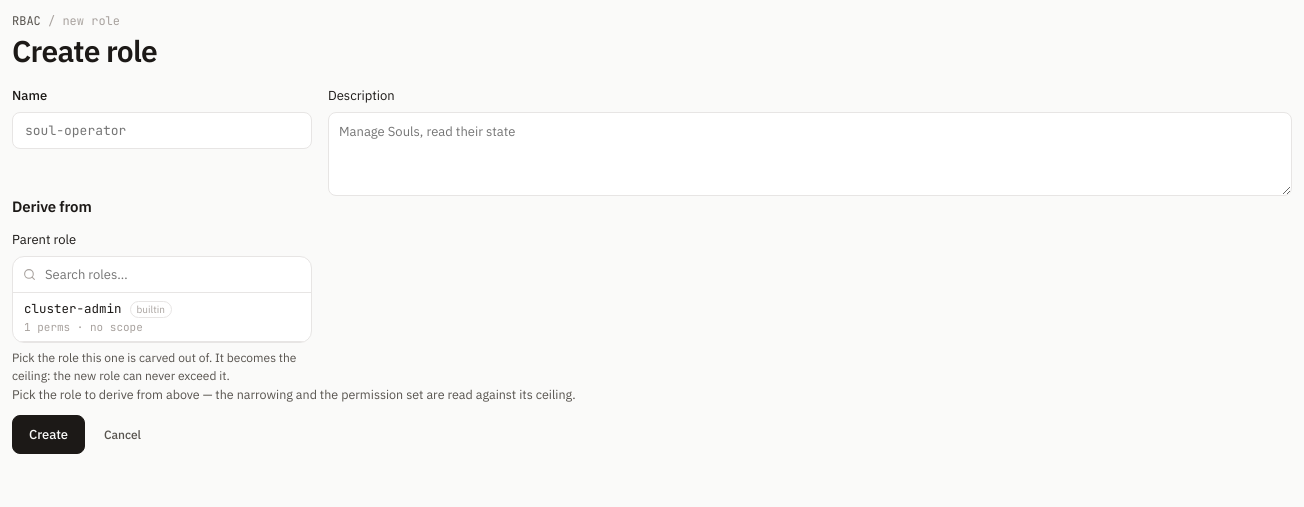
Test: CreateRolePage (NIM-80) › invalid name (not kebab-case) → client validation, POST is not sent
Type "Bad Name" into the field with placeholder "soul-operator" at coordinates (162, 130), box [12,112,312,148]
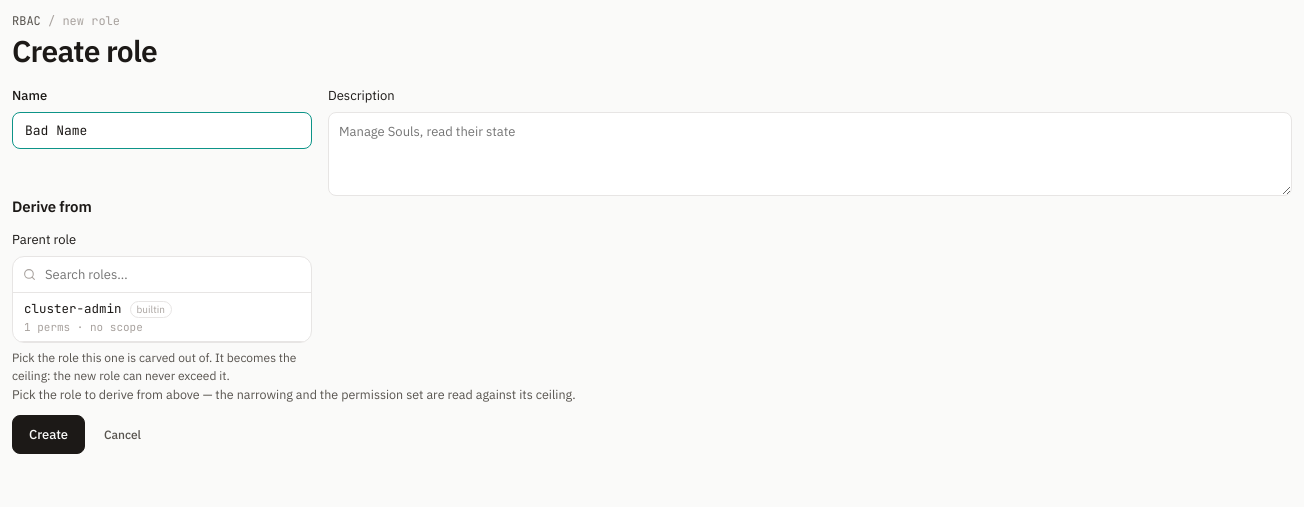
Click the button "Create" at coordinates (48, 435), box [12,415,85,454]
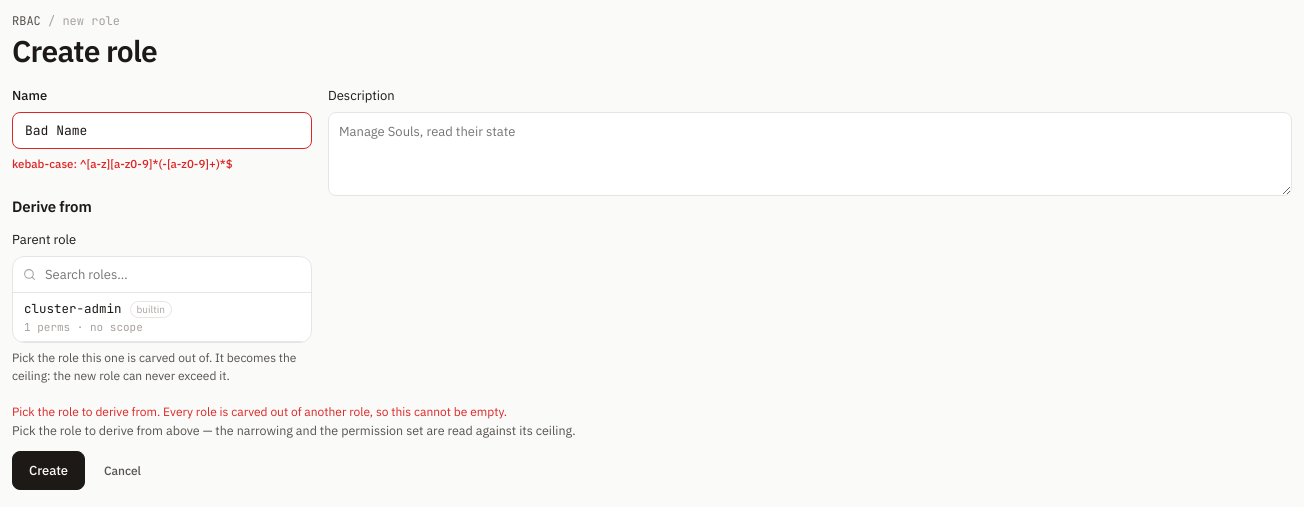
expect the text "kebab-case: ^[a-z][a-z0-9]*(-[a-z0-9]+)*$" is shown: met, box [12,156,233,170]
